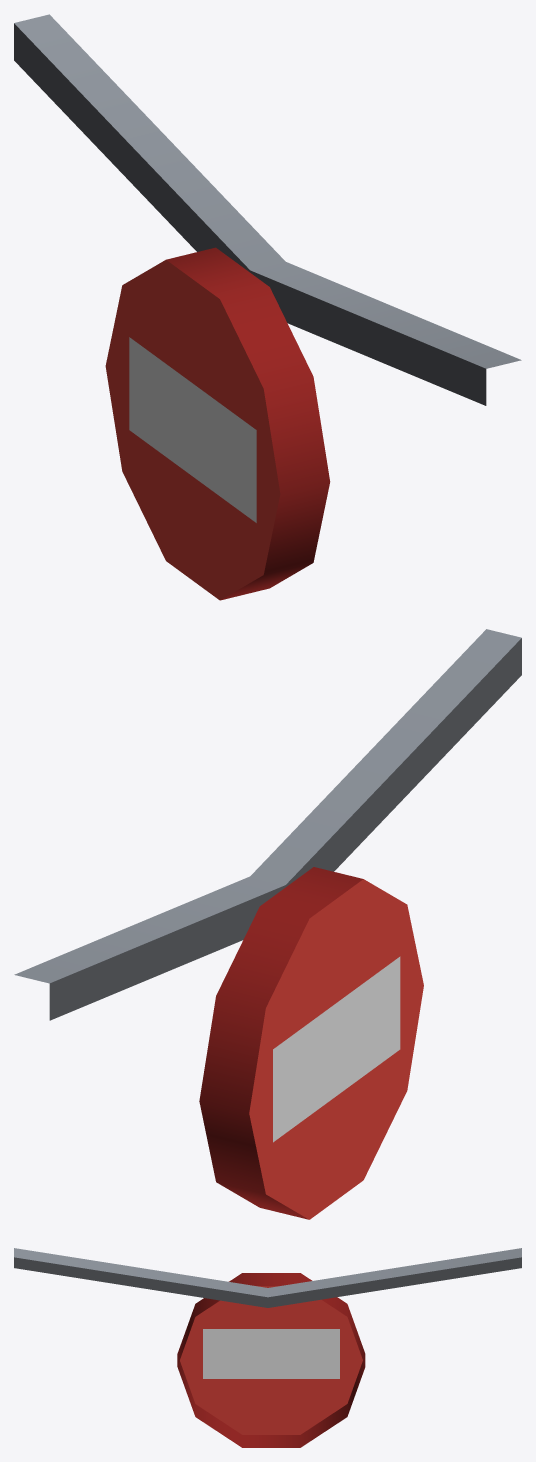
Rendered from jinzhitongxing_01.FBX.
3 views of the same model, one above another, from view 1: azimuth 30°, elevation 25°; view 2: azimuth 150°, elevation 25°; view 3: azimuth 270°, elevation 25° (orthographic). The views are drawn at different scales.
Visible parts, largest first — view 1: jinzhi_01; view 2: jinzhi_01; view 3: jinzhi_01.
Boxes of the visible parts, box(x1,y1,x2,y2) form: jinzhi_01: box(14, 14, 521, 600); jinzhi_01: box(14, 629, 521, 1219); jinzhi_01: box(14, 1248, 521, 1447).
Size of the model in its own units: 14.15 by 56.45 by 129.
